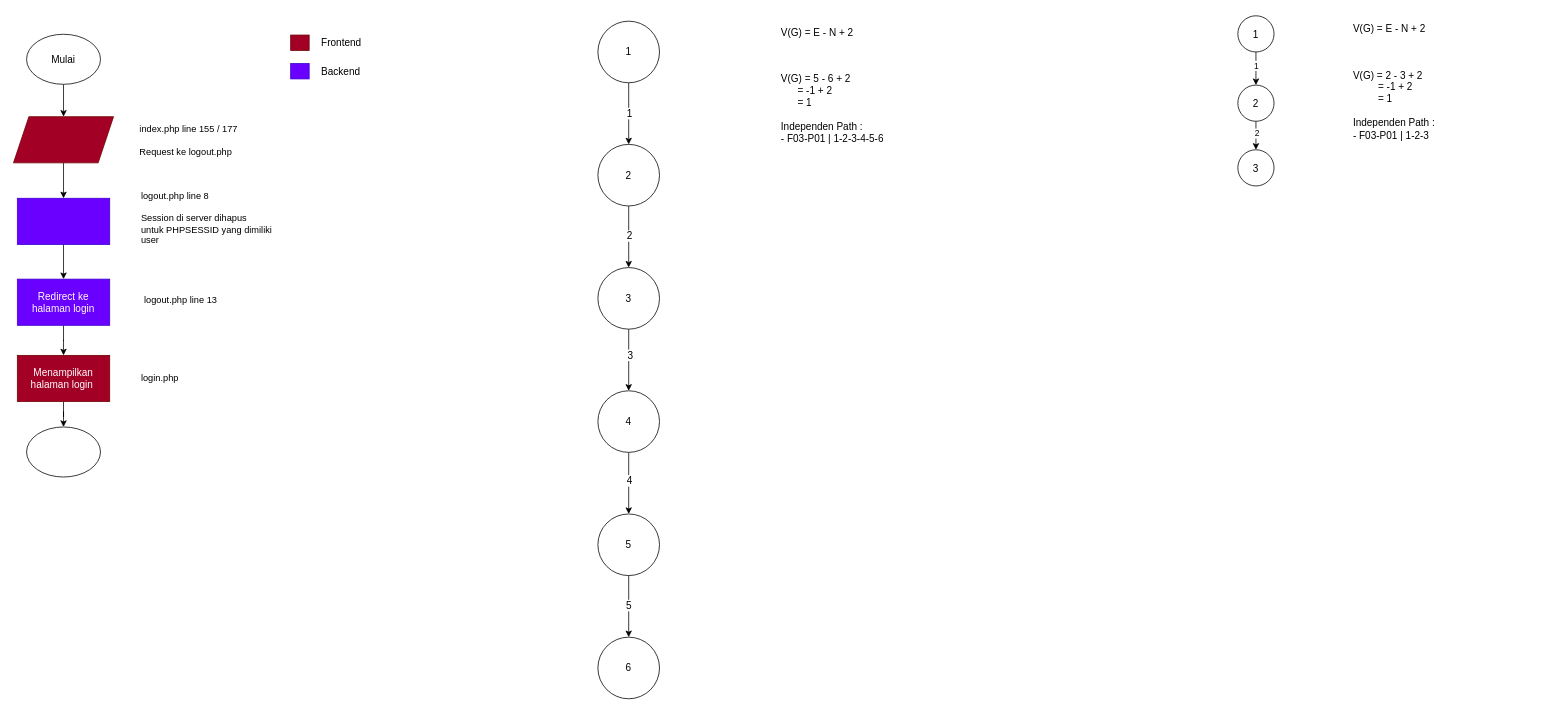
Image size: 1562x712. Some labels were removed from this diagram. Here are the shapes that lost their labels. From the top down, the box of each, then its label:
(13, 116, 114, 163): Klik tombol logout
(17, 198, 110, 244): Hapus session di server
(26, 426, 100, 477): Selesai
